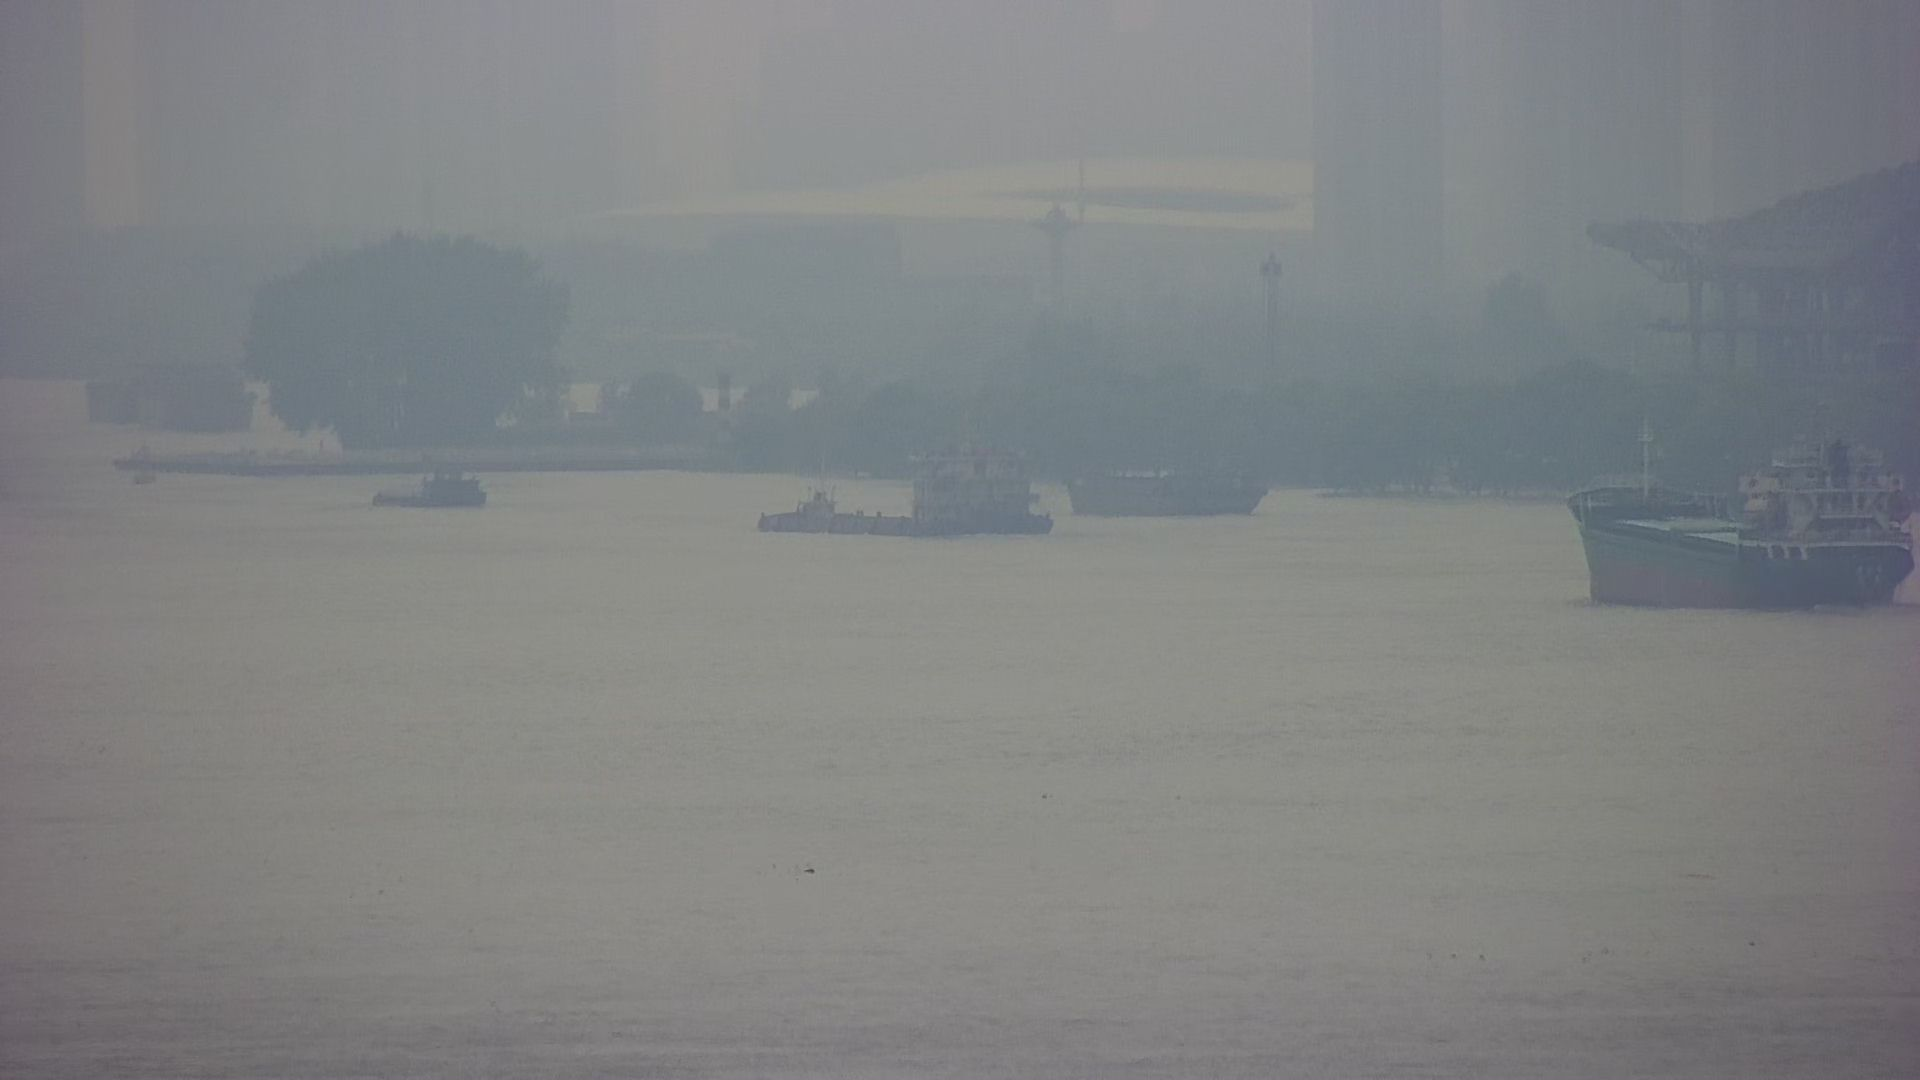boat: (356, 460, 512, 520)
ship: (1540, 404, 1920, 629), (733, 401, 1065, 555), (1060, 436, 1275, 531)
